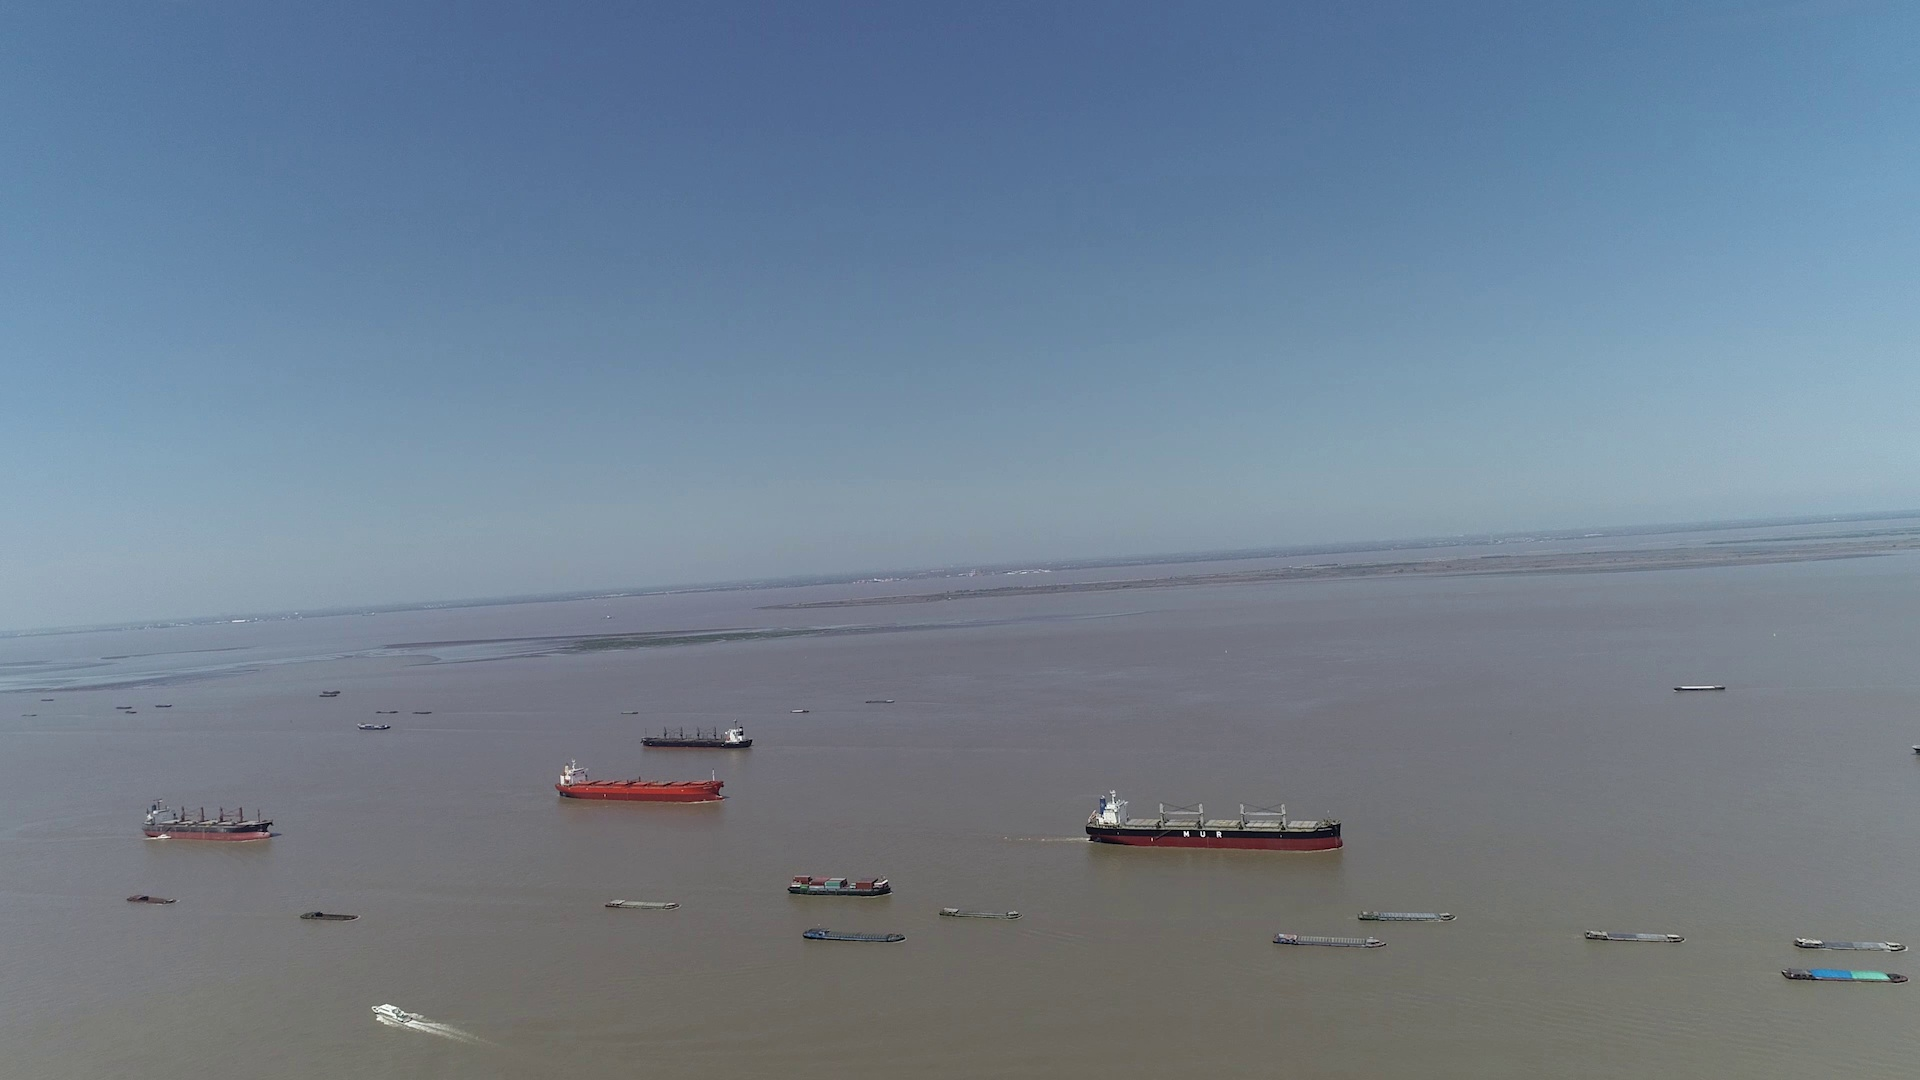ship: (1083, 787, 1342, 852), (555, 757, 727, 800), (142, 798, 272, 840), (641, 723, 750, 749), (1782, 963, 1908, 984), (787, 872, 891, 895), (1273, 930, 1385, 948), (1795, 934, 1905, 952), (804, 926, 905, 943), (1584, 927, 1684, 944), (372, 1002, 429, 1029), (1356, 909, 1451, 922), (940, 905, 1021, 919), (604, 895, 676, 910), (301, 909, 357, 920), (127, 893, 175, 905), (1672, 684, 1725, 691), (353, 720, 389, 729)
